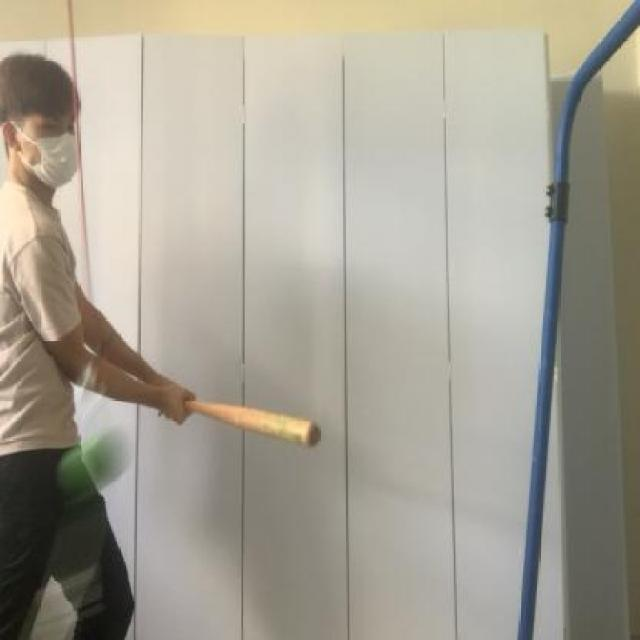baseball: (56, 417, 135, 506)
